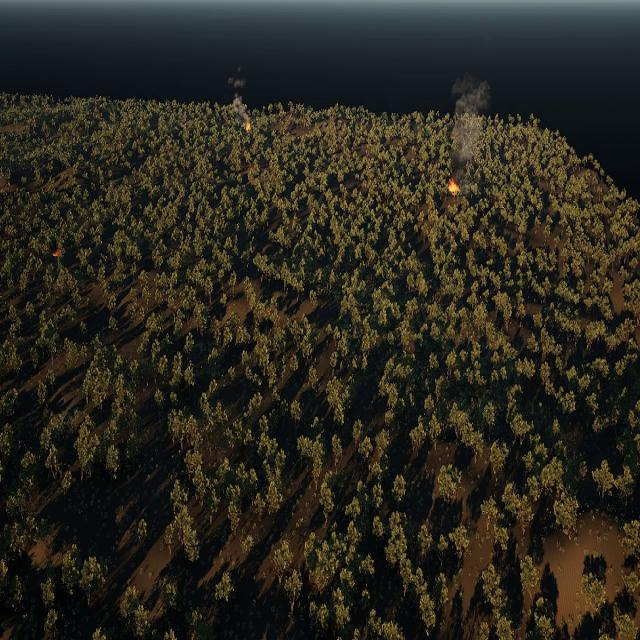fire: (450, 181, 460, 193), (52, 249, 61, 257), (246, 122, 251, 133)
smoke: (450, 72, 490, 193), (228, 66, 250, 123)
